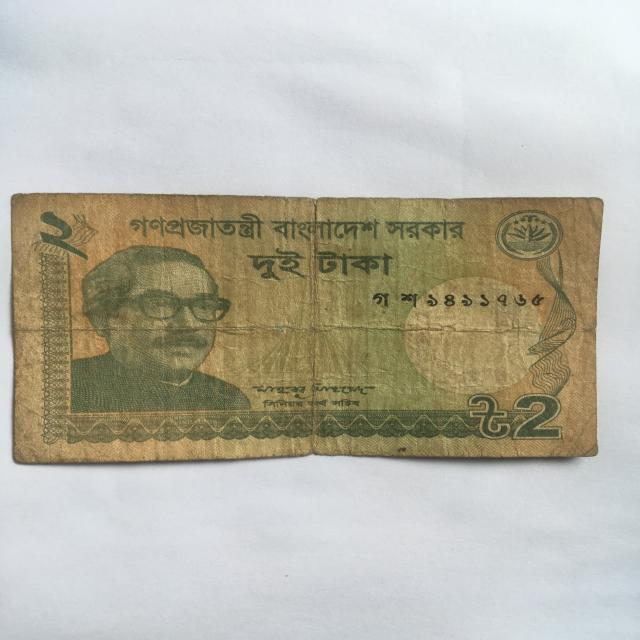Taka: (9, 188, 606, 455)
